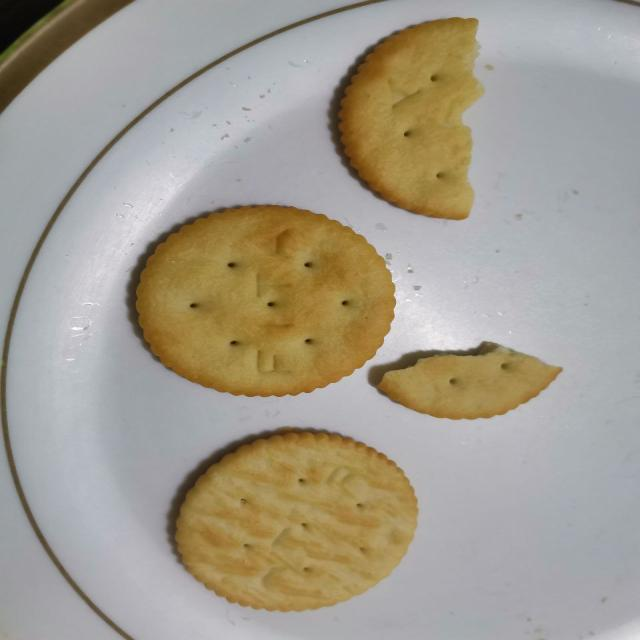broken biscuit: (320, 11, 496, 226), (387, 332, 571, 425)
intact biscuit: (133, 202, 397, 398), (172, 427, 420, 613)
